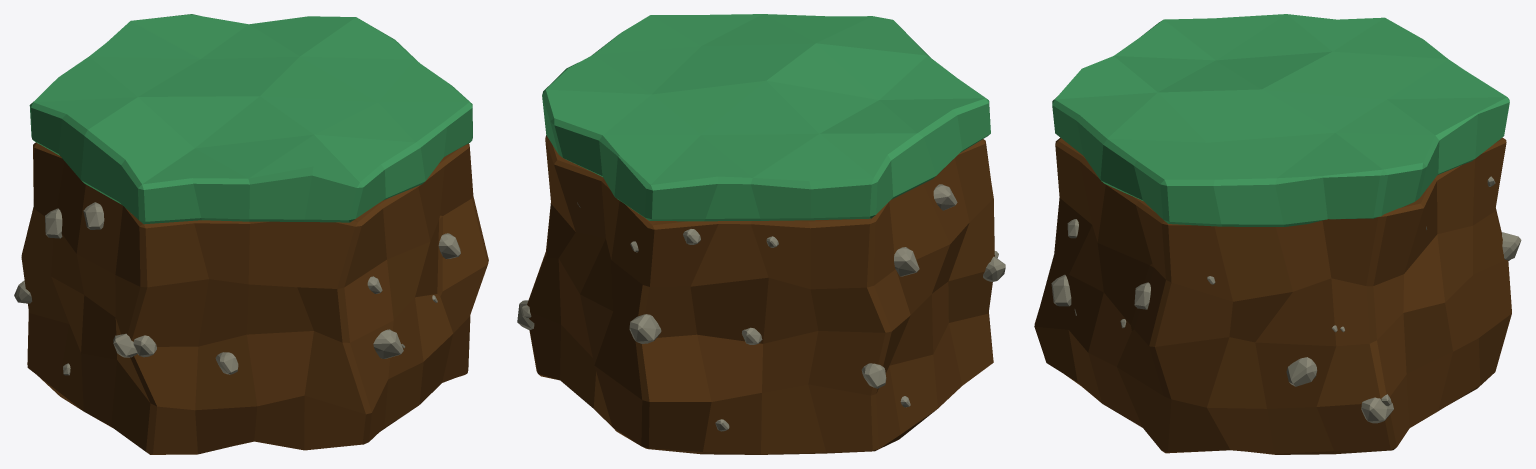
The model's file is tile for test.fbx.
3 views of the same model, side by side, from view 1: azimuth 30°, elevation 25°; view 2: azimuth 150°, elevation 25°; view 3: azimuth 270°, elevation 25° (orthographic). The views are drawn at different scales.
Parts seen in each view (by area): view 1: bottom, top, stone.035, stone.009, stone.010; view 2: bottom, top, stone.006, stone.010, stone.008; view 3: bottom, top, stone.015, stone.021, stone.035.
Part boxes in pixels (x1,y1,x2,y2): bottom: [21, 142, 488, 454]; top: [29, 14, 472, 224]; stone.035: [373, 329, 403, 358]; stone.009: [83, 202, 104, 229]; stone.010: [45, 208, 62, 238]; bottom: [527, 135, 994, 454]; top: [542, 14, 990, 221]; stone.006: [629, 314, 661, 343]; stone.010: [894, 247, 919, 276]; stone.008: [861, 363, 886, 388]; bottom: [1034, 137, 1511, 454]; top: [1052, 14, 1509, 226]; stone.015: [1286, 357, 1317, 386]; stone.021: [1361, 397, 1393, 423]; stone.035: [1051, 274, 1071, 306].
Bounding box in the file's own units: 194 × 142 × 213.
